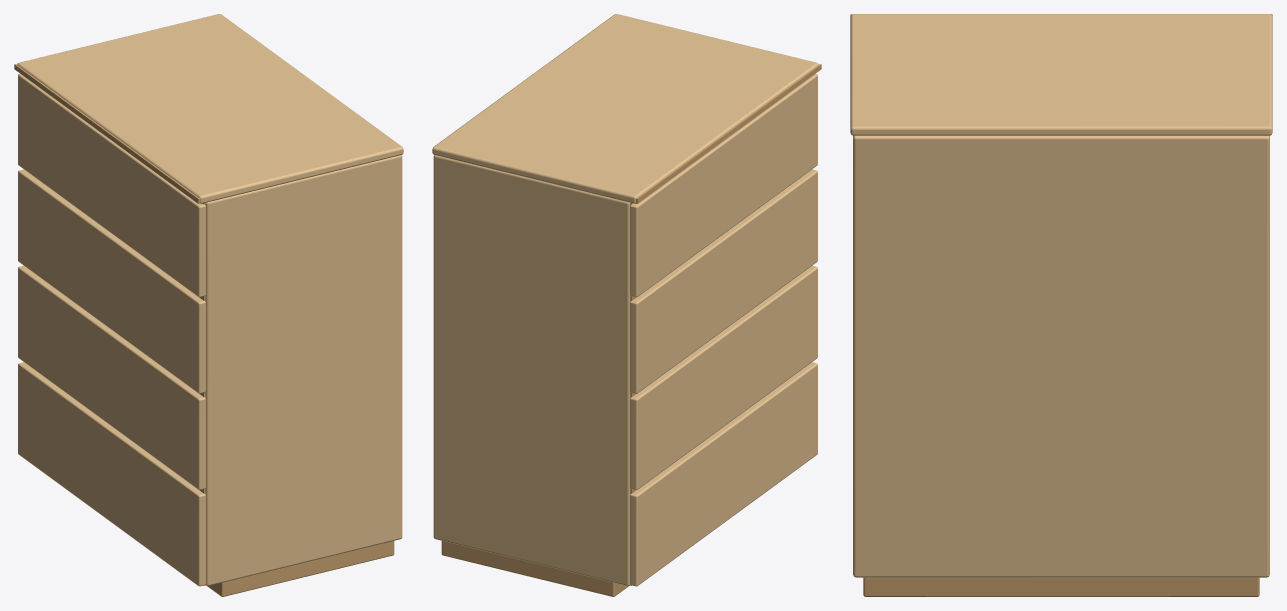
Rendered from commode.glb.
3 views of the same model, side by side, from view 1: azimuth 30°, elevation 25°; view 2: azimuth 150°, elevation 25°; view 3: azimuth 270°, elevation 25° (orthographic). The views are drawn at different scales.
Visible parts, largest first — view 1: commode; view 2: commode; view 3: commode.
Part boxes in pixels (box(x1,y1,x2,y2)): commode: box(14, 14, 403, 596); commode: box(432, 14, 821, 596); commode: box(850, 14, 1272, 596).
Size of the model in its own units: 0.524 by 1 by 0.81.
